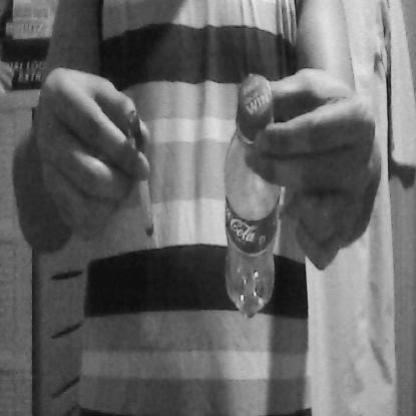Plastic Bottle: (217, 64, 288, 329)
